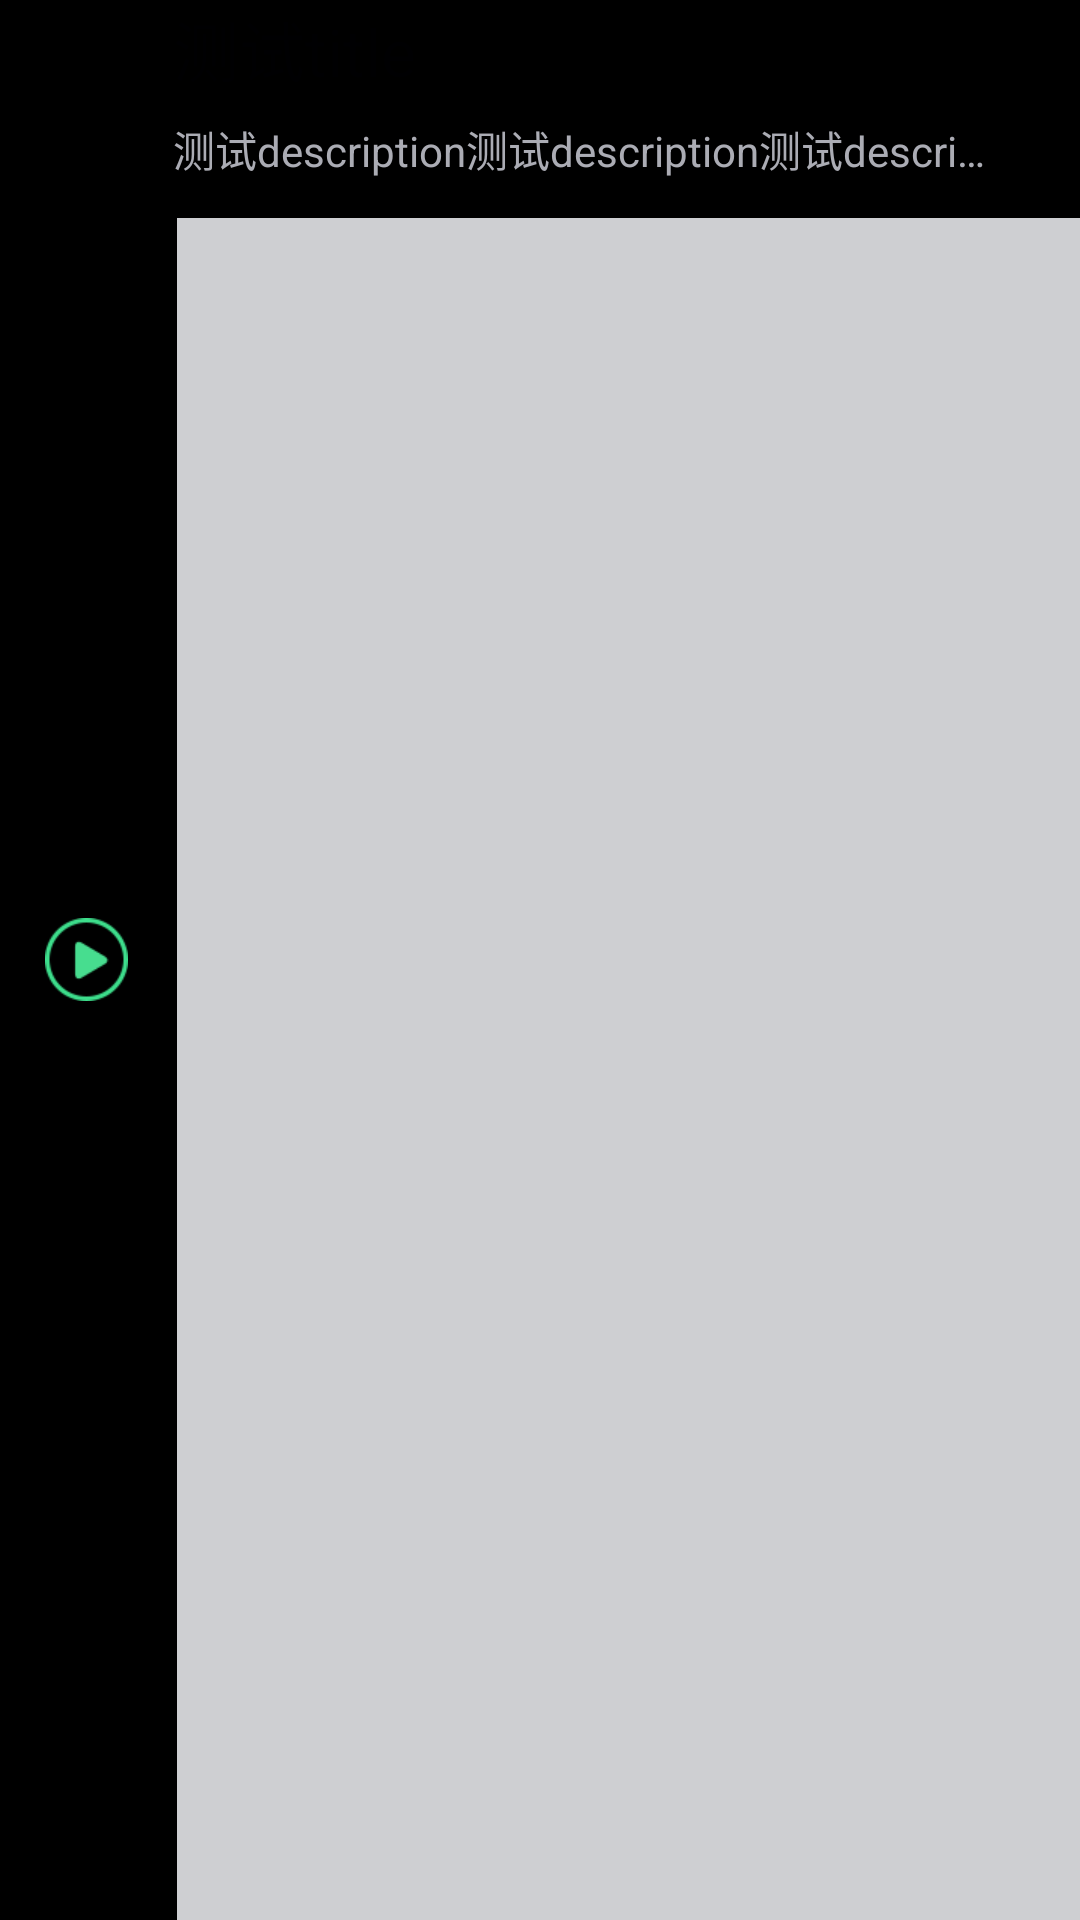

Where to tap for icons on this 1080px x 1920px app screen, as (x=x, y=y):
play: (x=86, y=959)
